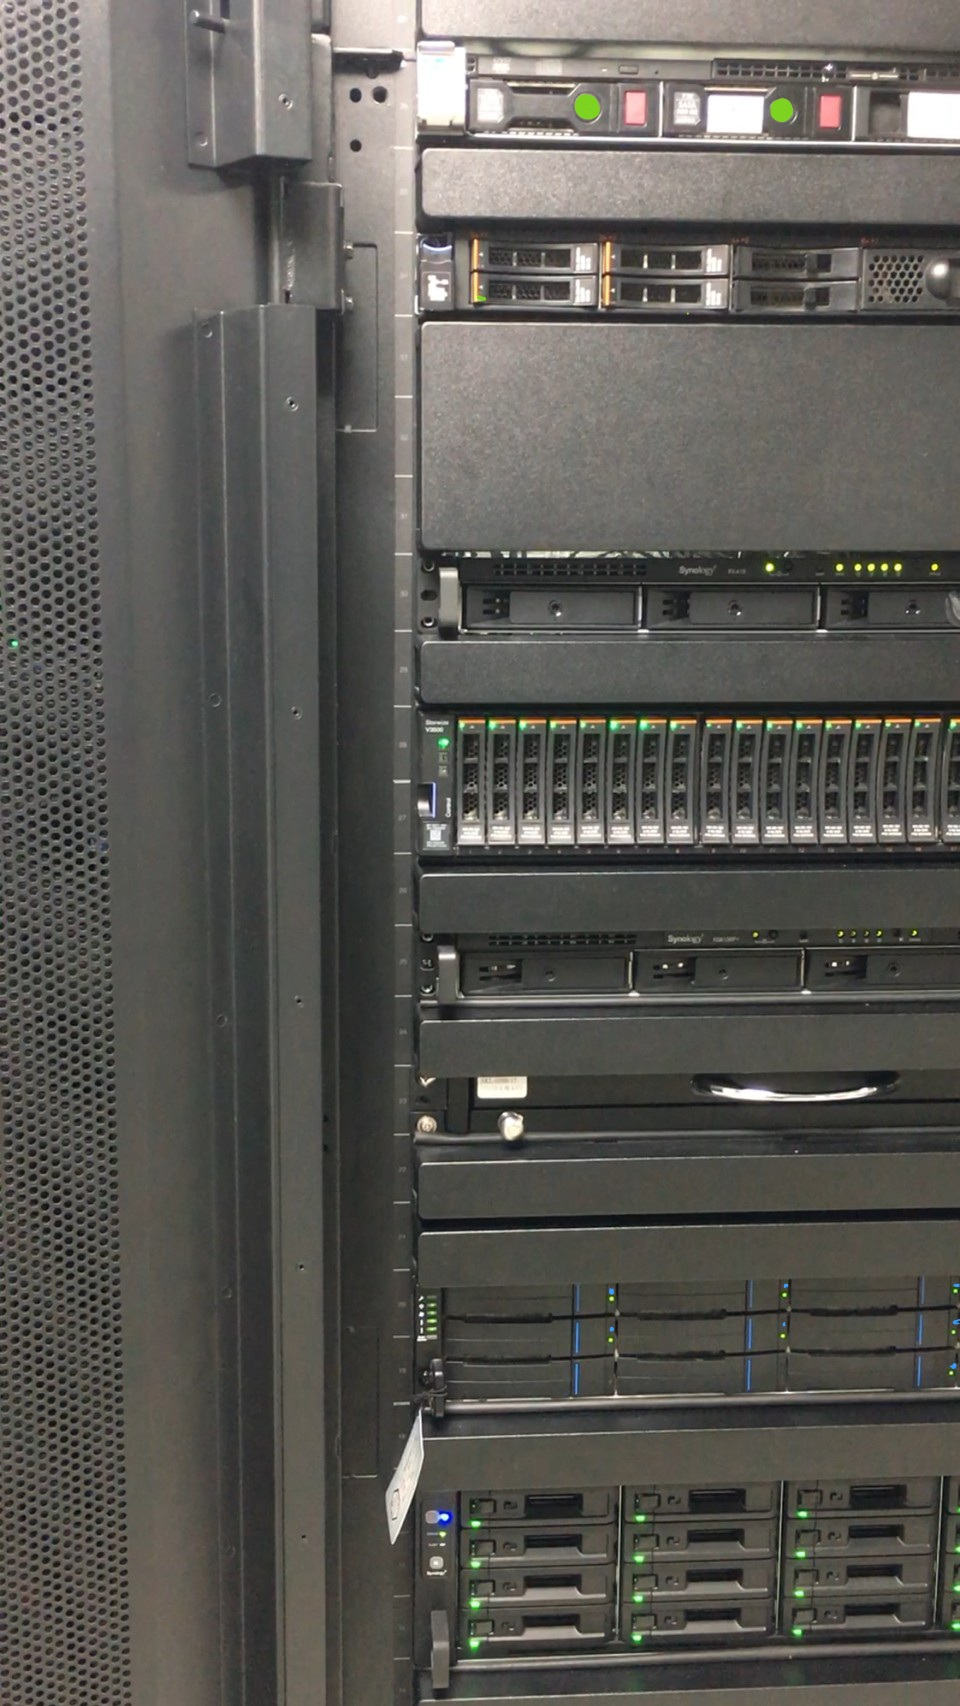HDD_Notused: (731, 278, 866, 319), (736, 246, 860, 280)
HDD_normal: (475, 269, 597, 311)
HDD_shut down: (606, 272, 726, 315), (604, 238, 727, 277), (472, 240, 597, 274)
